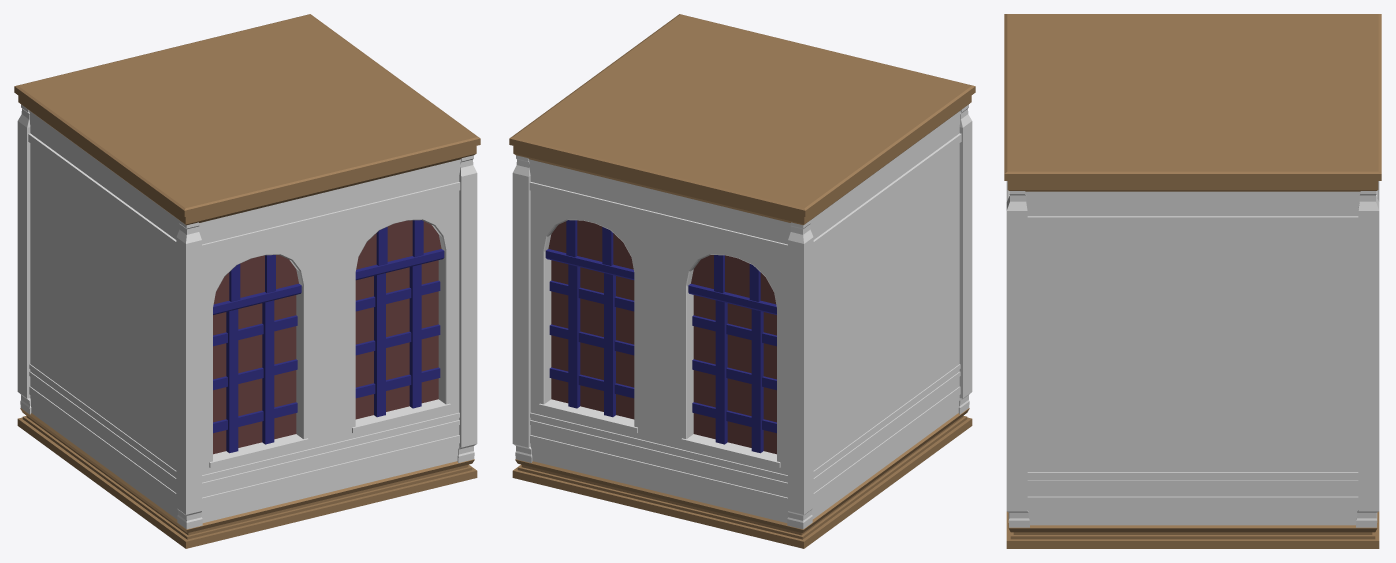
3 renders of one model, left to right at view 1: azimuth 30°, elevation 25°; view 2: azimuth 150°, elevation 25°; view 3: azimuth 270°, elevation 25°, orthographic. The views are drawn at different scales.
Parts seen in each view (by area): view 1: floor5.2, floor5.2Decor; view 2: floor5.2, floor5.2Decor; view 3: floor5.2, floor5.2Decor.
Boxes of the visible parts, x1,y1,x2,y2 form: floor5.2: [14, 14, 480, 548]; floor5.2Decor: [17, 104, 477, 529]; floor5.2: [509, 14, 975, 548]; floor5.2Decor: [512, 104, 972, 529]; floor5.2: [1004, 14, 1381, 548]; floor5.2Decor: [1006, 181, 1379, 527].
Bounding box in the file's own units: 208 × 228 × 207.
